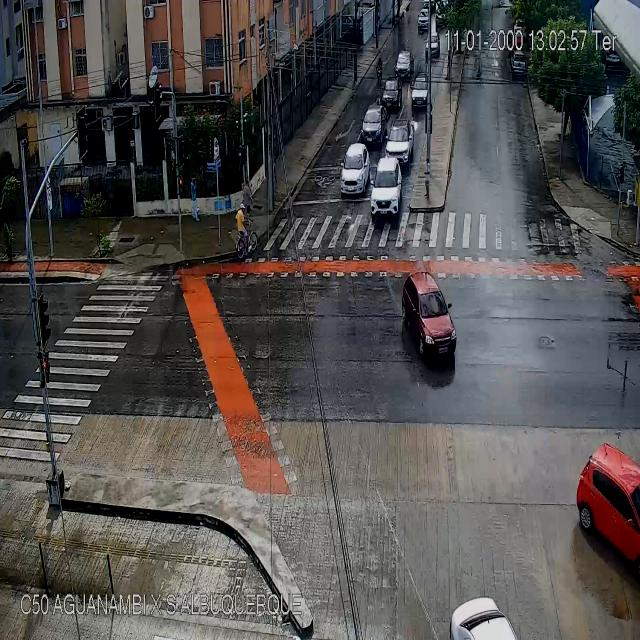Car: (576, 443, 640, 564), (402, 272, 458, 362), (450, 596, 518, 640), (370, 155, 401, 216), (340, 141, 370, 193), (385, 120, 413, 171), (361, 104, 386, 144), (411, 73, 428, 108), (381, 79, 401, 108), (396, 51, 412, 79), (511, 51, 527, 76), (424, 35, 439, 59), (418, 9, 429, 32)
Motorcycle: (374, 54, 383, 86)
